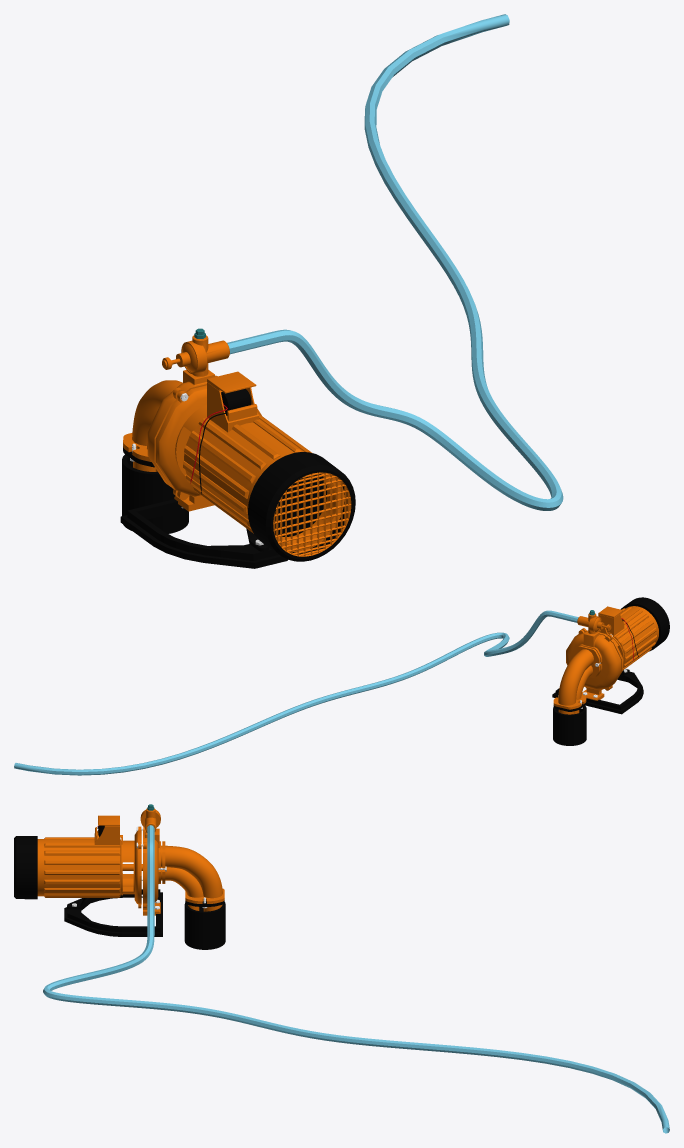
File: WATERPUMP.fbx
The picture shows the model from 3 angles, top to bottom: view 1: azimuth 30°, elevation 25°; view 2: azimuth 150°, elevation 25°; view 3: azimuth 270°, elevation 25°; orthographic projection. The views are drawn at different scales.
Parts seen in each view (by area): view 1: NurbsPath.002, Cylinder.001, Cylinder.002, Cylinder.003, Cube.010, Cylinder.004, Cylinder.014, Cylinder.005, Cylinder.006, NurbsPath, Cube.005; view 2: NurbsPath.002, Cylinder.005, Cylinder.001, NurbsPath, Cylinder.014, Cube.010, Cylinder.002, Cylinder.006, Cube.005, Plane; view 3: NurbsPath.002, Cylinder.001, NurbsPath, Cylinder.014, Cube.010, Cylinder.002, Cylinder.005, Cylinder.004, Cylinder.010.
Boxes of the visible parts, x1,y1,x2,y2 form: NurbsPath.002: (227,14,563,510); Cylinder.001: (183,413,344,551); Cylinder.002: (248,452,355,561); Cylinder.003: (273,472,351,556); Cube.010: (120,499,287,568); Cylinder.004: (155,385,261,500); Cylinder.014: (122,454,188,533); Cylinder.005: (147,370,217,511); Cylinder.006: (162,335,229,376); NurbsPath: (132,380,182,449); Cube.005: (207,382,258,432); NurbsPath.002: (14,610,578,775); Cylinder.005: (566,629,621,700); Cylinder.001: (598,606,658,669); NurbsPath: (558,649,593,705); Cylinder.014: (553,706,586,745); Cube.010: (552,671,643,714); Cylinder.002: (620,597,669,651); Cylinder.006: (577,613,611,633); Cube.005: (598,614,624,635); Plane: (573,645,600,677); NurbsPath.002: (43,825,669,1133); Cylinder.001: (37,837,142,897); NurbsPath: (161,845,222,898); Cylinder.014: (184,902,225,949); Cube.010: (64,889,162,936); Cylinder.002: (14,836,37,899); Cylinder.005: (143,827,160,915); Cylinder.004: (134,826,141,908); Cylinder.010: (122,840,134,894).
Size of the model in its own units: 4065 by 1087 by 4746.
